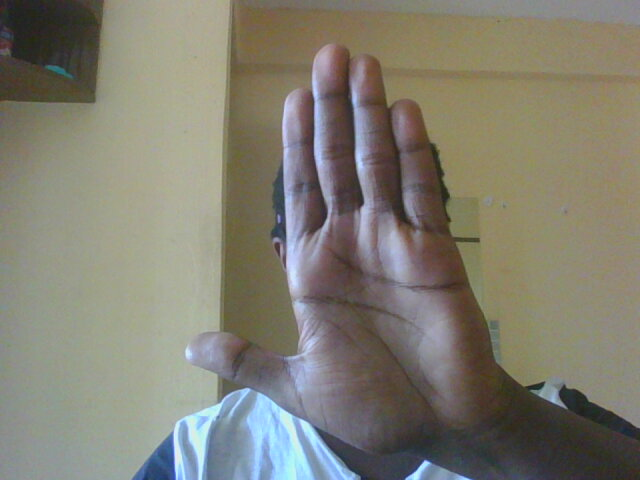Hello: (182, 44, 487, 434)
